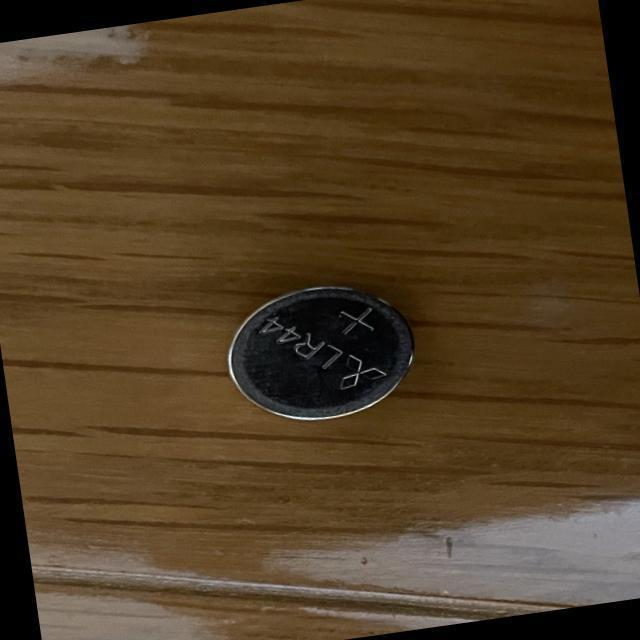COIN: (217, 272, 428, 434)
